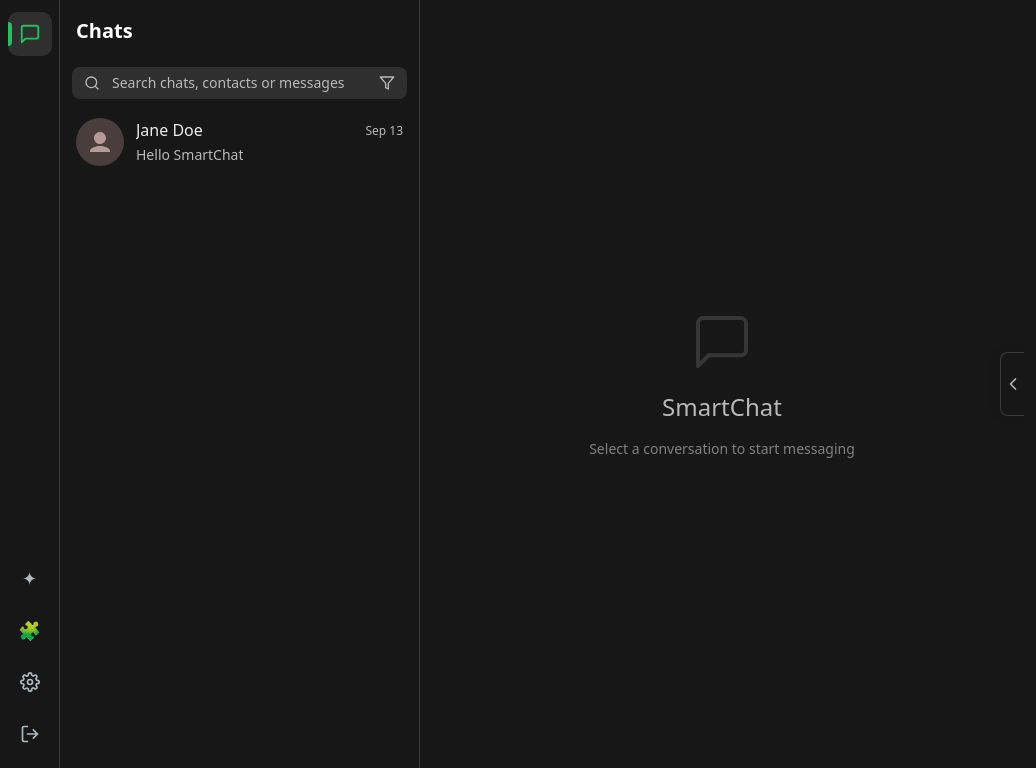
Test case: ChatLayout › toggles AI Assistant sidebar when clicking AI edge tab
Click the button titled "Open AI Assistant" at (1012, 384), box [1000, 352, 1024, 416]
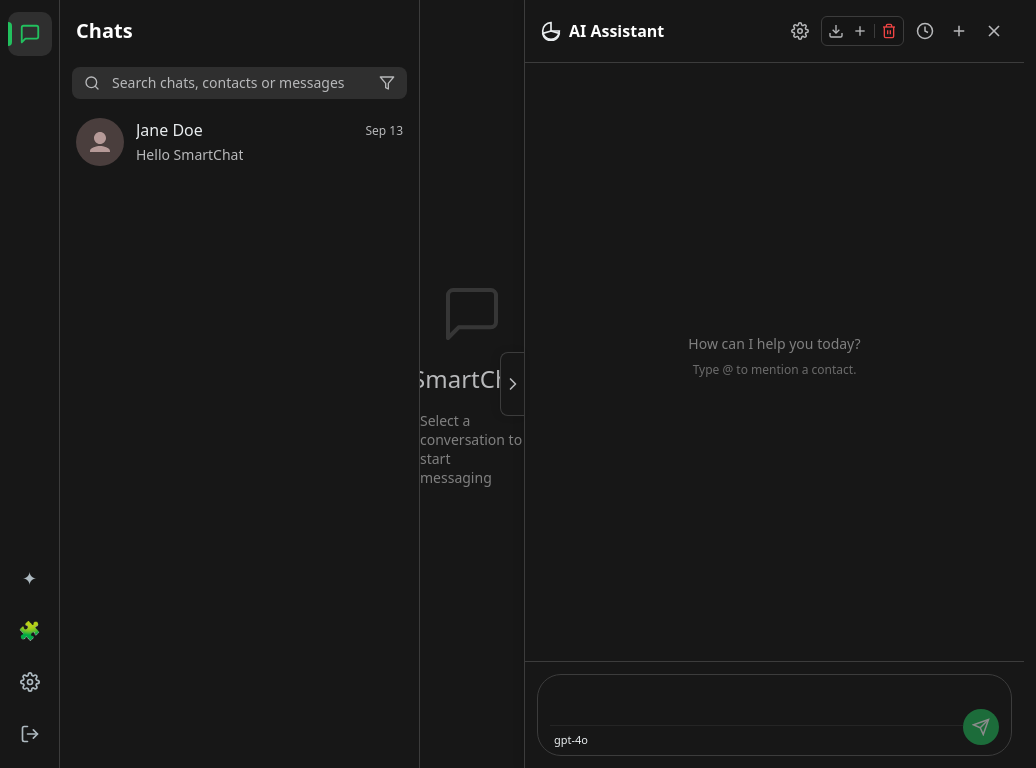
expect the button titled "Close AI Assistant" is shown: met, box [500, 352, 524, 416]
